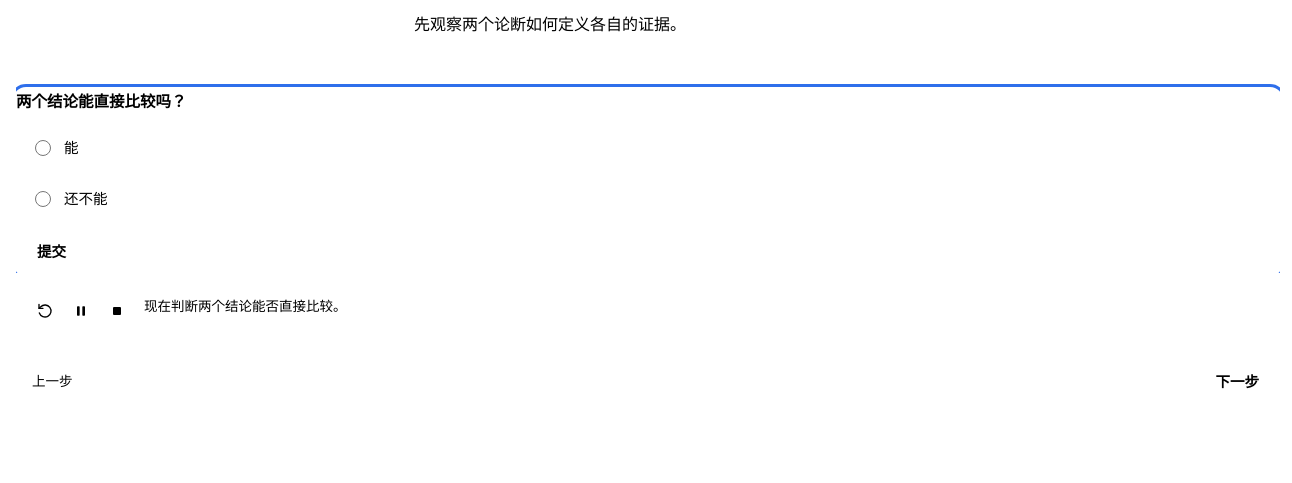
Scenario: SlicePlayer › 重新开始本节 remounts blocks so an answered question is answerable again
Expected: the radio button labelled "能" is enabled, [35,140,51,156]
Click the radio button labelled "还不能": {"x": 43, "y": 199} [35,191,51,207]
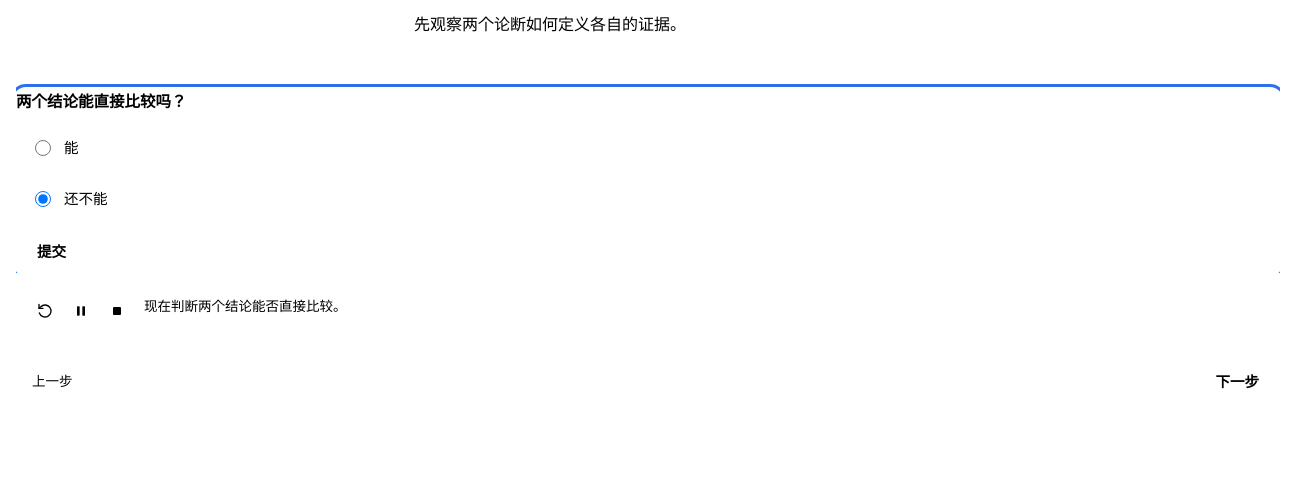
Click the button "提交": {"x": 52, "y": 253} [16,233,87,273]
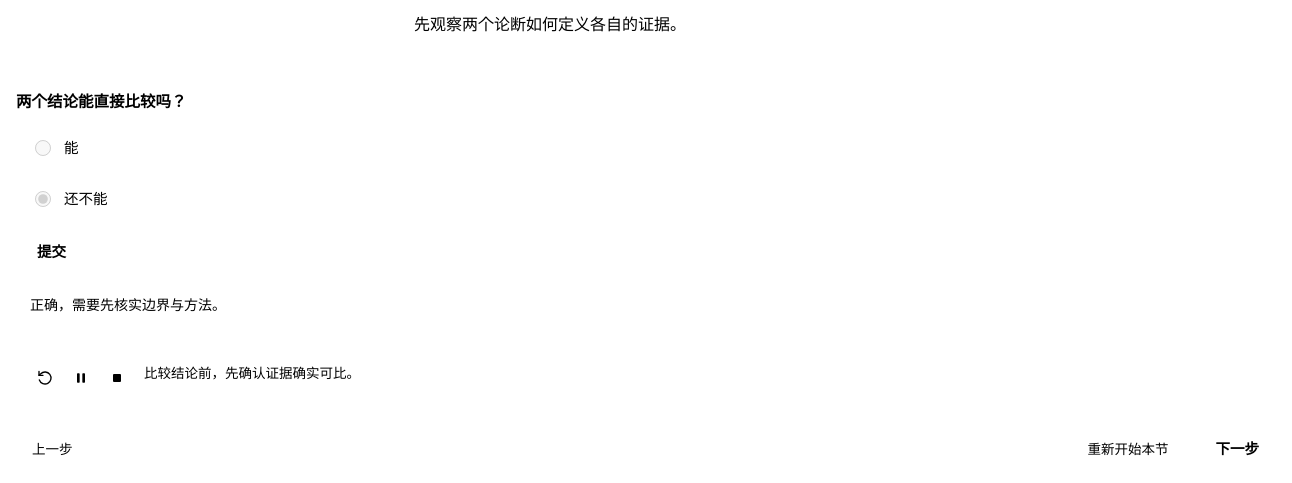
Expected: the radio button labelled "能" is disabled, [35,140,51,156]
// Completed → the replay control is offered.
Click the button "重新开始本节": {"x": 1128, "y": 450} [1072,434,1184,466]
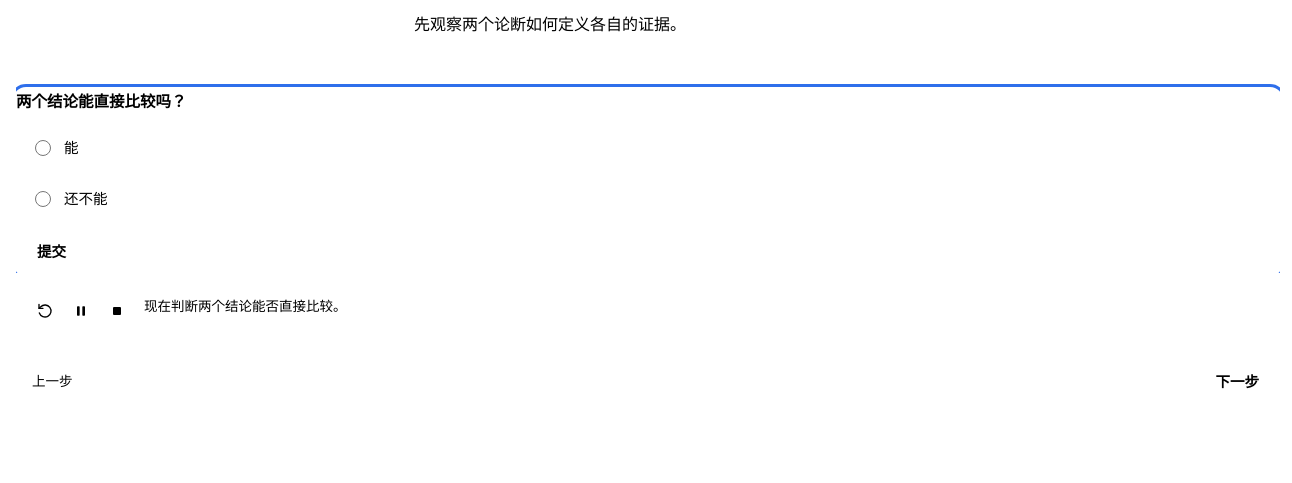
Expected: the radio button labelled "能" is not checked, [35,140,51,156]
Expected: the radio button labelled "能" is enabled, [35,140,51,156]
// And it can actually be answered again.
Click the radio button labelled "还不能": {"x": 43, "y": 199} [35,191,51,207]
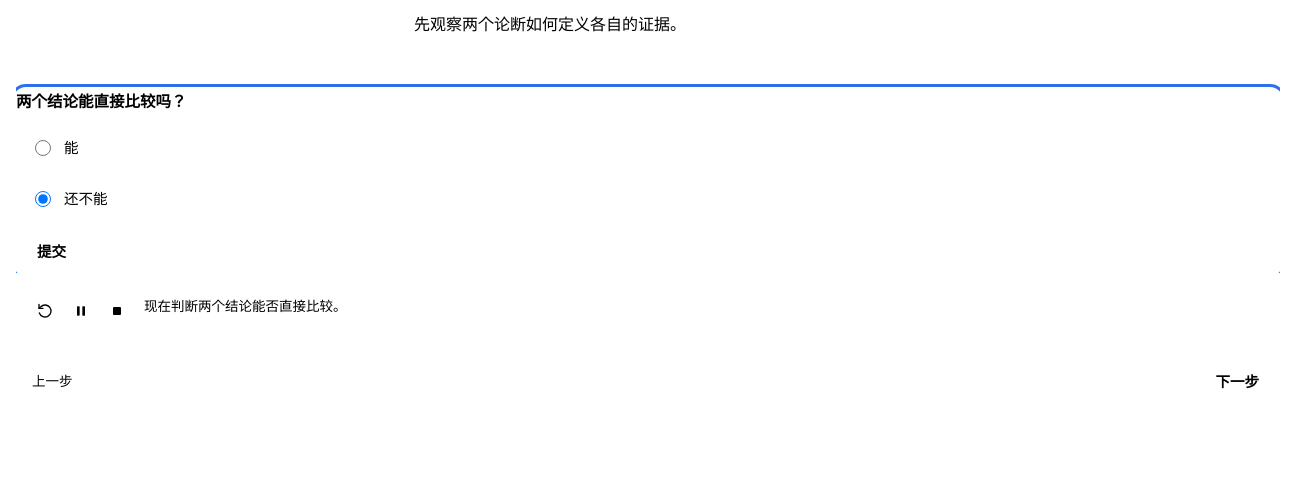
Click the button "提交": {"x": 52, "y": 253} [16,233,87,273]
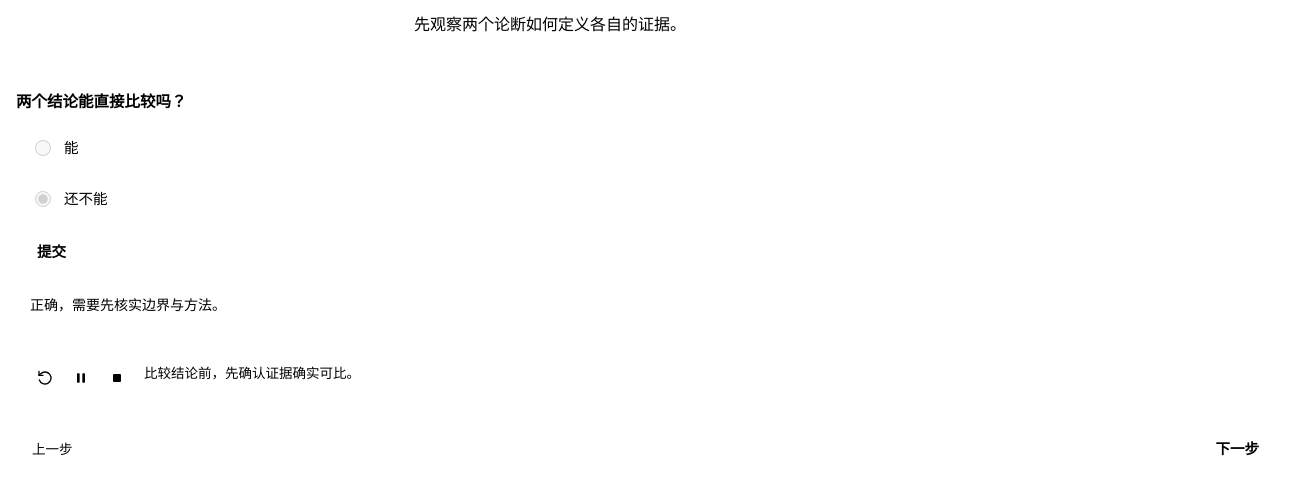
Expected: the message "正确，需要先核实边界与方法。" is shown, [30,298,226,313]
